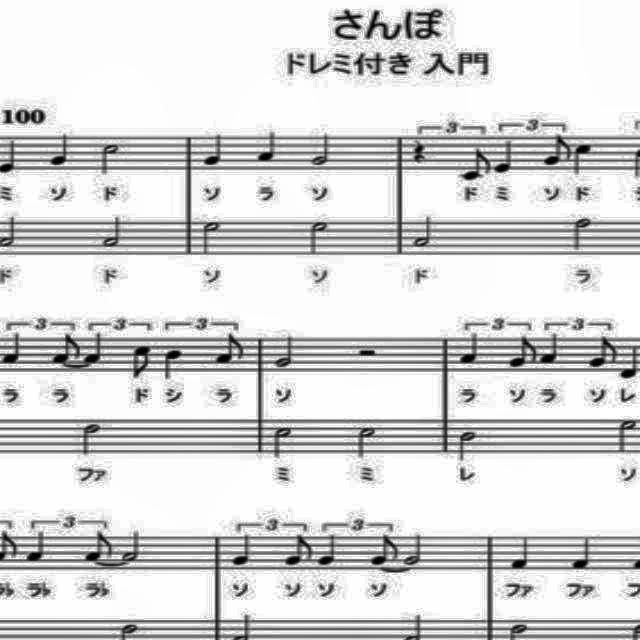Eighth-note: (538, 131, 574, 169), (367, 530, 403, 568), (214, 331, 250, 369), (80, 528, 116, 564), (460, 144, 492, 184), (282, 530, 314, 570), (586, 333, 618, 371), (49, 329, 80, 367), (127, 340, 155, 382), (508, 332, 536, 372)
Half-note: (453, 422, 483, 466), (352, 420, 382, 462), (399, 524, 427, 568), (77, 419, 107, 459), (196, 217, 224, 259), (616, 412, 640, 460), (409, 211, 436, 253), (268, 422, 296, 462), (306, 216, 332, 256), (570, 214, 596, 253), (272, 333, 296, 375), (120, 527, 144, 565), (309, 128, 331, 168), (98, 140, 122, 176), (99, 214, 123, 248)
Half-rest: (354, 342, 382, 362)
Quarter-note: (20, 526, 52, 568), (312, 529, 344, 569), (200, 128, 228, 172), (250, 126, 278, 170), (228, 529, 256, 573), (46, 129, 74, 169), (455, 328, 483, 368), (570, 529, 594, 575), (80, 330, 108, 368), (492, 136, 516, 180), (570, 136, 594, 180), (510, 530, 534, 574), (0, 328, 24, 370), (160, 346, 188, 382), (616, 340, 640, 380), (538, 329, 562, 367)
Quarter-rest: (406, 136, 436, 168)
